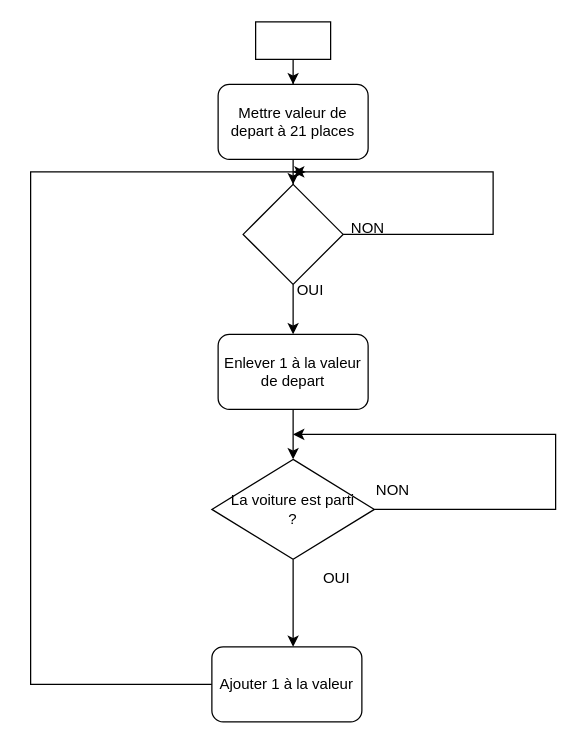
This 588x744 diagram has some shape labels left out. Each missing label, with the centre of its shape:
"Début" belongs at (x=292, y=40).
"Voiture détéctée ?" belongs at (x=292, y=233).
